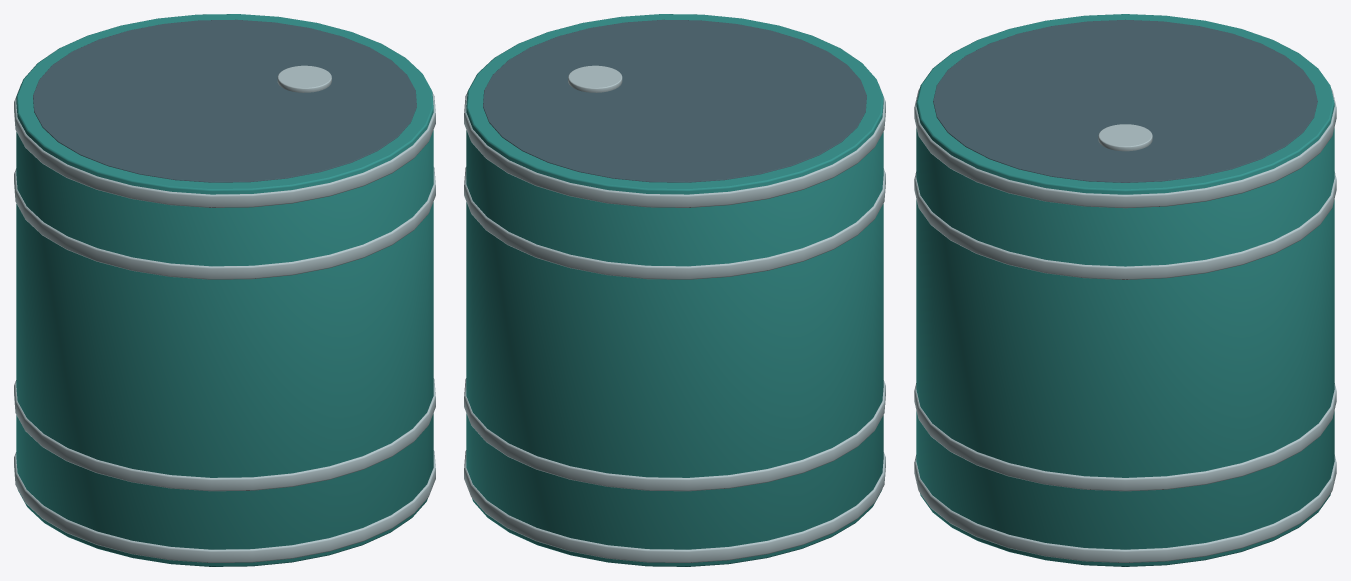
File: lab-drum.glb
3 views of the same model, side by side, from view 1: azimuth 30°, elevation 25°; view 2: azimuth 150°, elevation 25°; view 3: azimuth 270°, elevation 25° (orthographic).
Parts seen in each view (by area): view 1: Drum body.003, Inset lid.003, Reinforcing hoop.003; view 2: Drum body.003, Inset lid.003, Reinforcing hoop.003; view 3: Drum body.003, Inset lid.003, Reinforcing hoop.003.
Part boxes in pixels (x1,y1,x2,y2): Drum body.003: [16, 14, 433, 566]; Inset lid.003: [33, 19, 416, 182]; Reinforcing hoop.003: [14, 65, 435, 562]; Drum body.003: [466, 14, 883, 566]; Inset lid.003: [483, 19, 866, 182]; Reinforcing hoop.003: [464, 65, 885, 562]; Drum body.003: [916, 14, 1334, 566]; Inset lid.003: [933, 19, 1317, 182]; Reinforcing hoop.003: [914, 88, 1336, 562].
Size of the model in its own units: 1 by 1 by 1.
